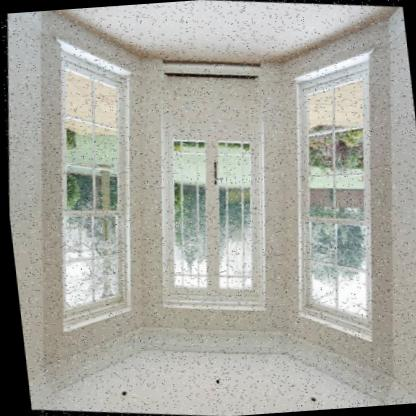Window: (263, 37, 406, 341), (26, 41, 165, 350)
